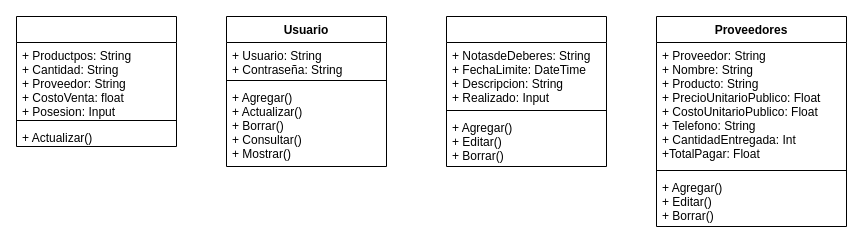
Some shapes in this 863 by 243 pixel diagram are drawn without their labels. The box of each missing label's shape, as (x1, y1, x2, y2) in pixels:
Productos: (16, 16, 176, 146)
Tareas: (446, 16, 606, 166)
